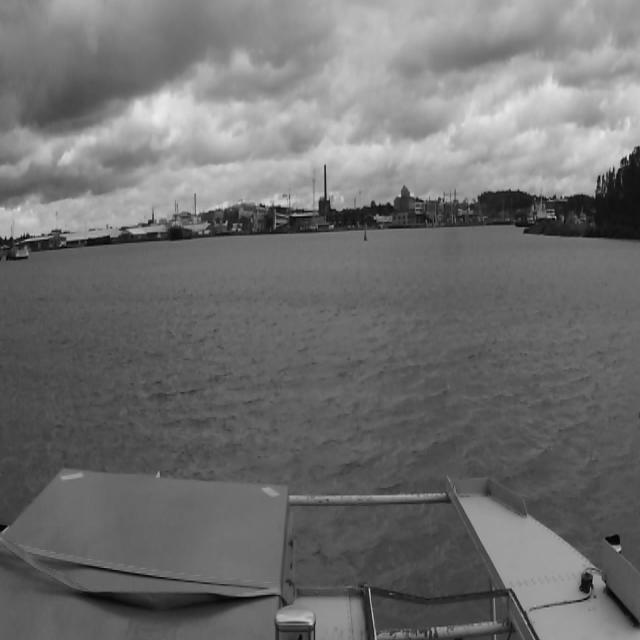buoy: (364, 222, 368, 241)
ship: (170, 206, 183, 251), (7, 239, 31, 261)
